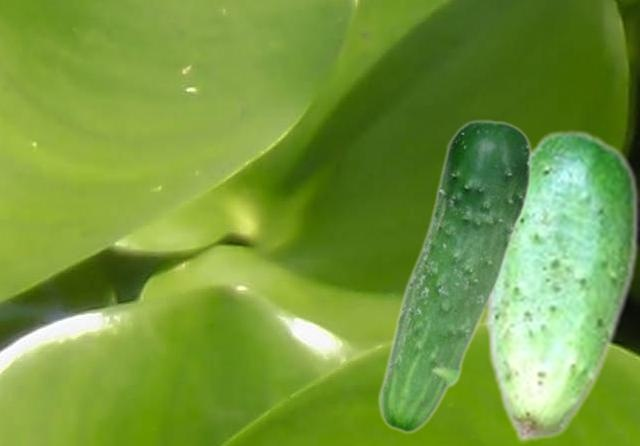cucumber: (376, 119, 532, 433), (484, 128, 638, 442)
